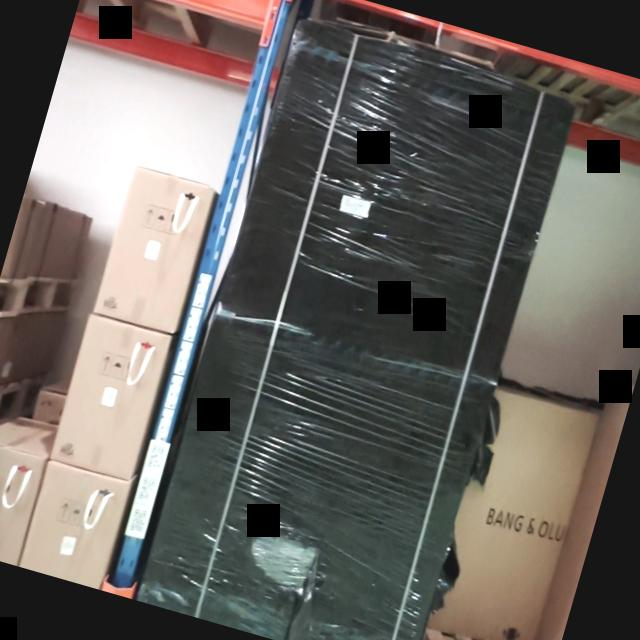box: (138, 18, 575, 640), (425, 386, 599, 640), (94, 168, 214, 334), (50, 316, 170, 480), (20, 462, 130, 590), (0, 439, 45, 566)
